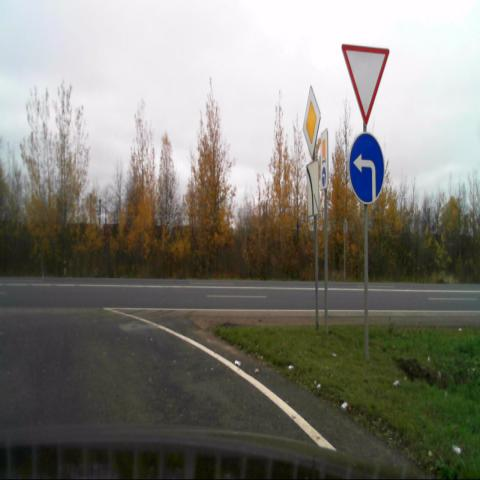4_1_3: (349, 133, 384, 204)
